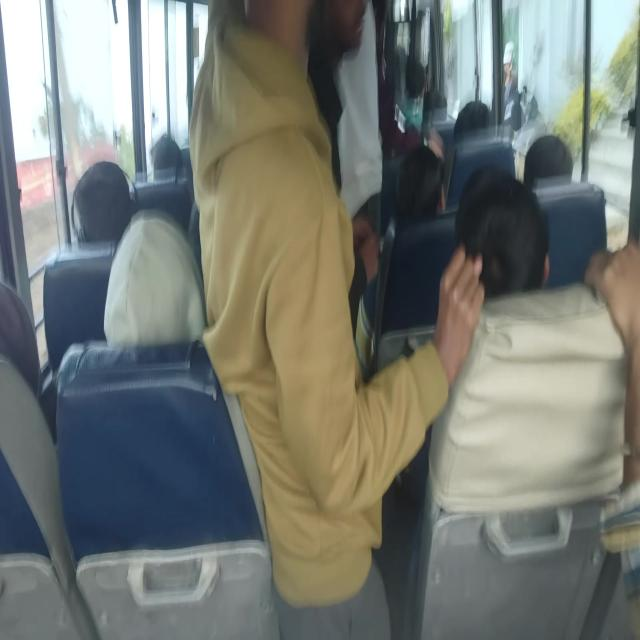person: (450, 178, 636, 624), (190, 14, 322, 260), (374, 143, 447, 374), (102, 213, 204, 347), (467, 286, 619, 365), (0, 260, 51, 421), (446, 134, 520, 192), (396, 142, 446, 220), (318, 0, 368, 64), (522, 134, 574, 183), (398, 58, 429, 138), (501, 41, 521, 136), (454, 100, 492, 138), (152, 135, 182, 174), (70, 184, 80, 234)
